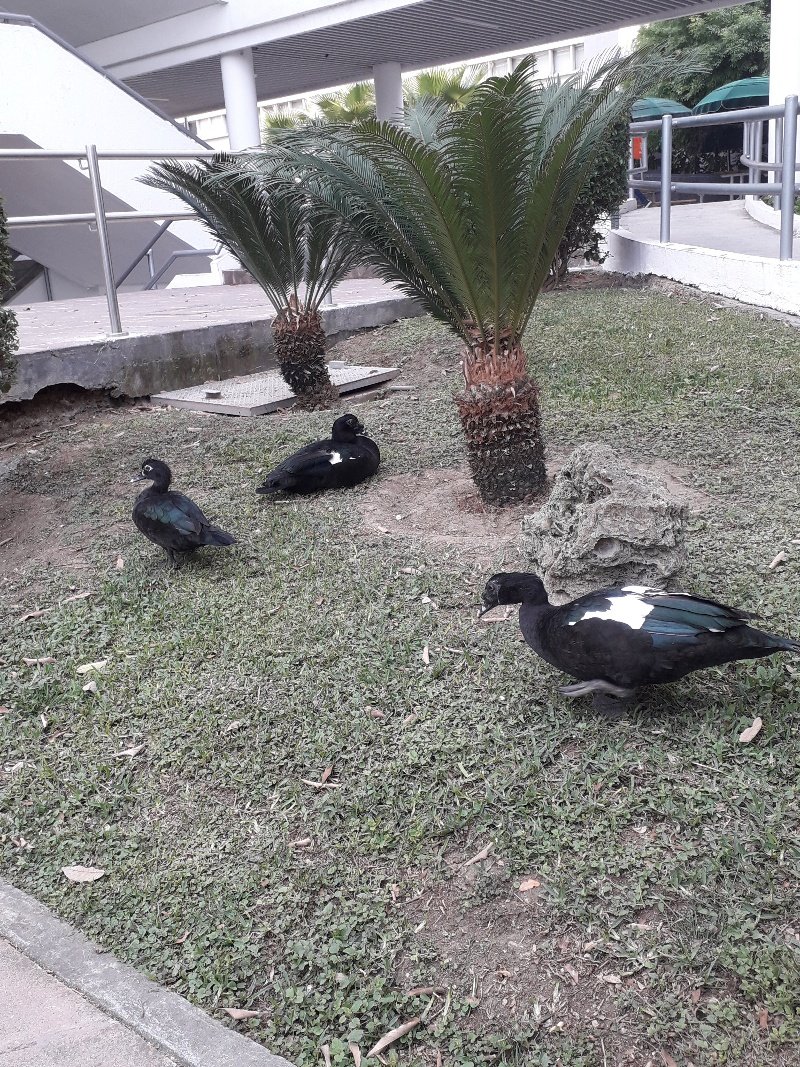pato: (486, 563, 774, 695), (264, 406, 382, 494), (132, 450, 222, 564)
